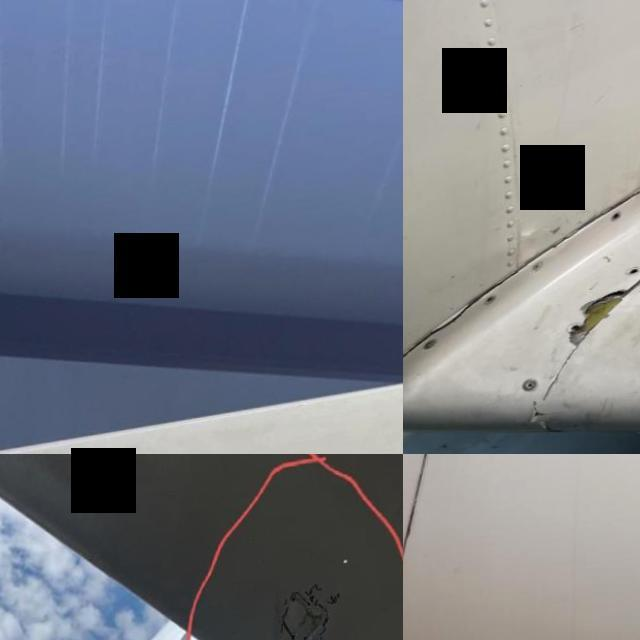Crack: (570, 294, 638, 357), (434, 301, 492, 342), (403, 334, 440, 398), (291, 598, 332, 640), (524, 407, 568, 430)
Missing_Fastener: (614, 219, 632, 232), (490, 301, 503, 314), (631, 272, 640, 286)
